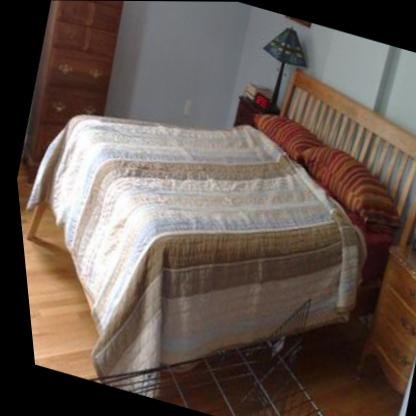Bed: (20, 63, 416, 397)
